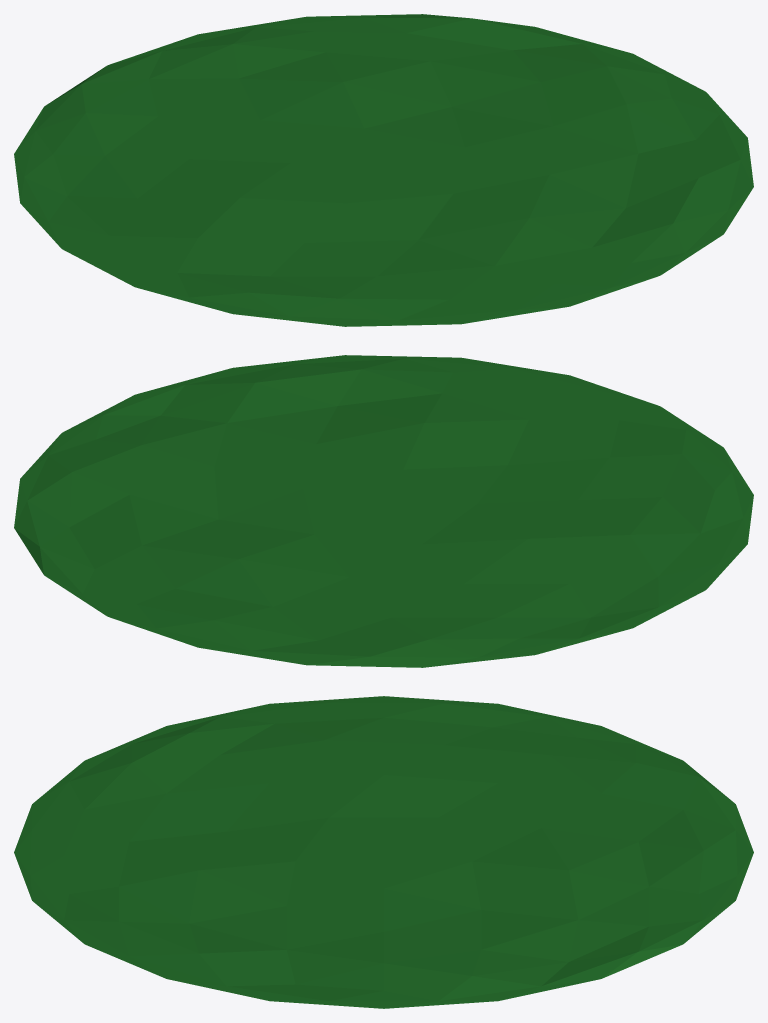
File: grassy-module.dae
The picture shows the model from 3 angles, top to bottom: view 1: azimuth 30°, elevation 25°; view 2: azimuth 150°, elevation 25°; view 3: azimuth 270°, elevation 25°; orthographic projection.
Parts seen in each view (by area): view 1: round-grassy-module; view 2: round-grassy-module; view 3: round-grassy-module.
Boxes of the visible parts, x1,y1,x2,y2 form: round-grassy-module: (14, 14, 753, 326); round-grassy-module: (14, 355, 753, 667); round-grassy-module: (14, 696, 753, 1008).
Bounding box in the file's own units: 3.96 × 3.96 × 0.0574.
